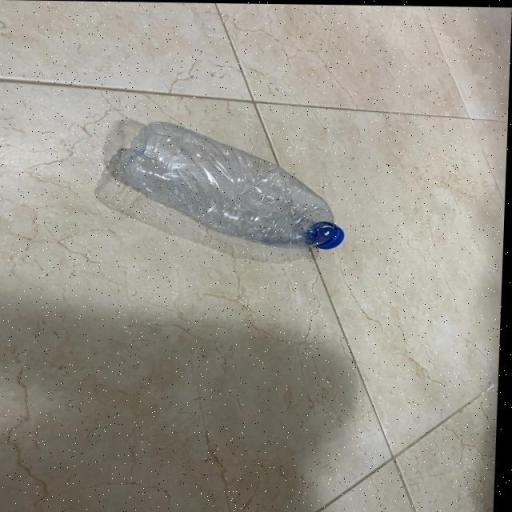plastic: (103, 117, 360, 260)
